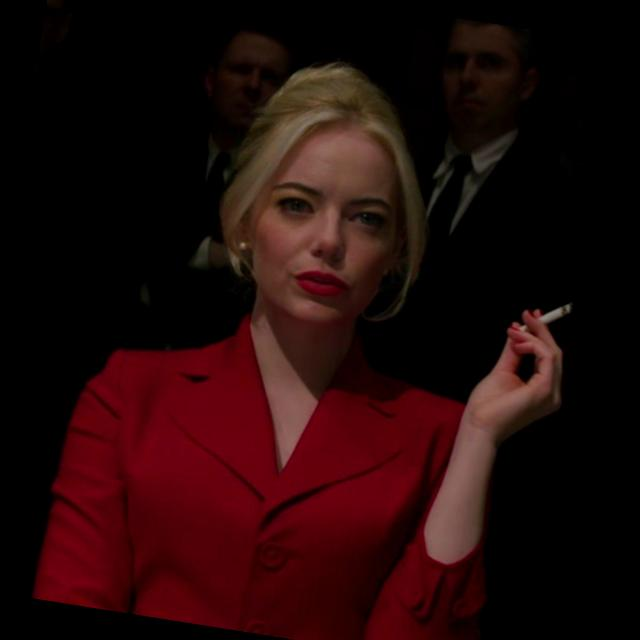smoke: (513, 273, 605, 354)
